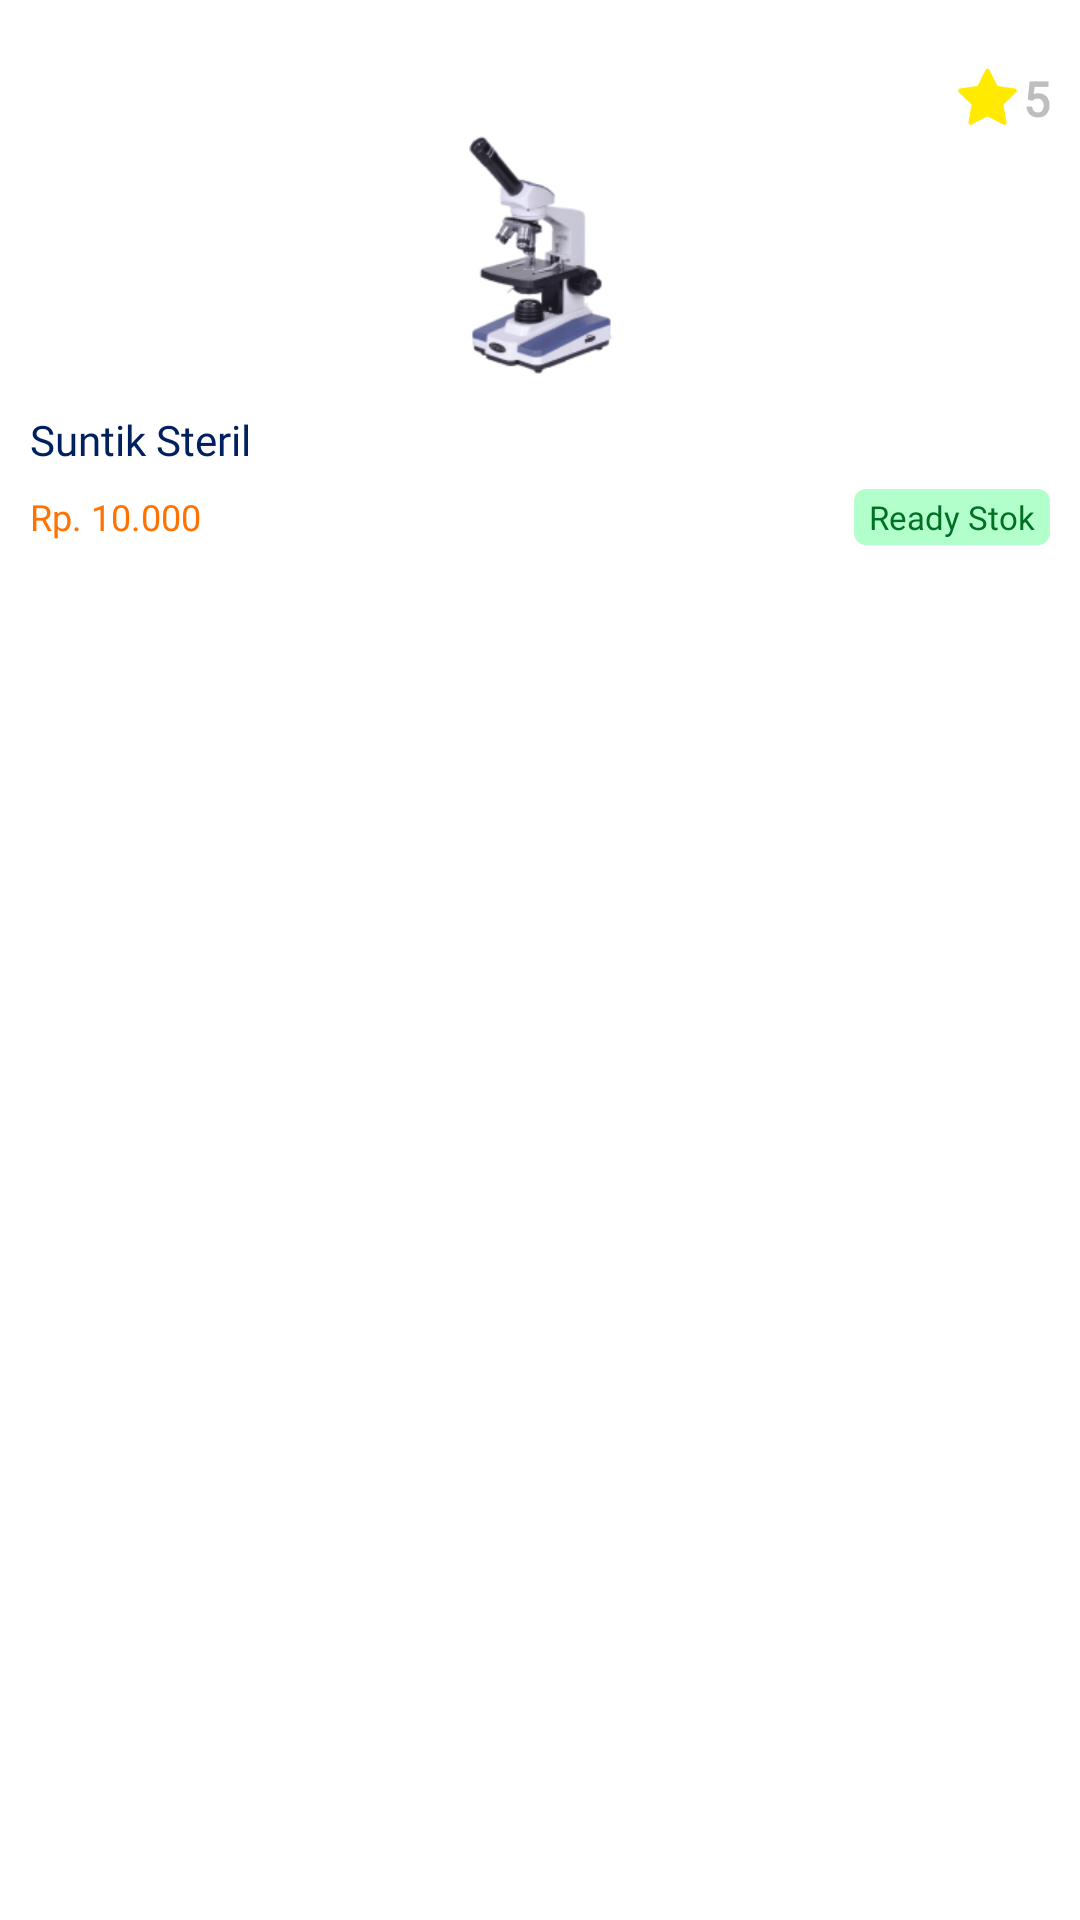

Named icons in this screenshot (1080w x 1920h) and their centers, (x=x, y=y):
star: (x=987, y=96)
